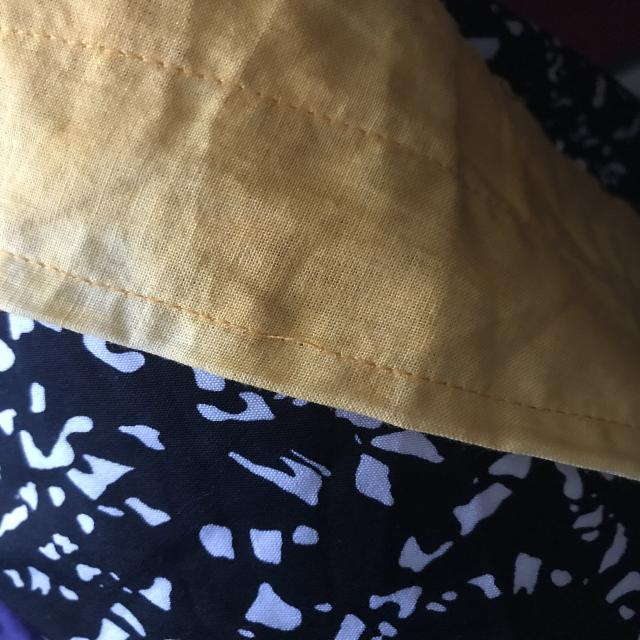skip: (243, 318, 355, 374)
